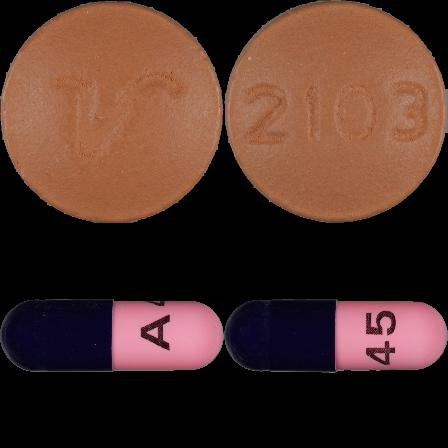16590-013: (0, 0, 224, 224)
